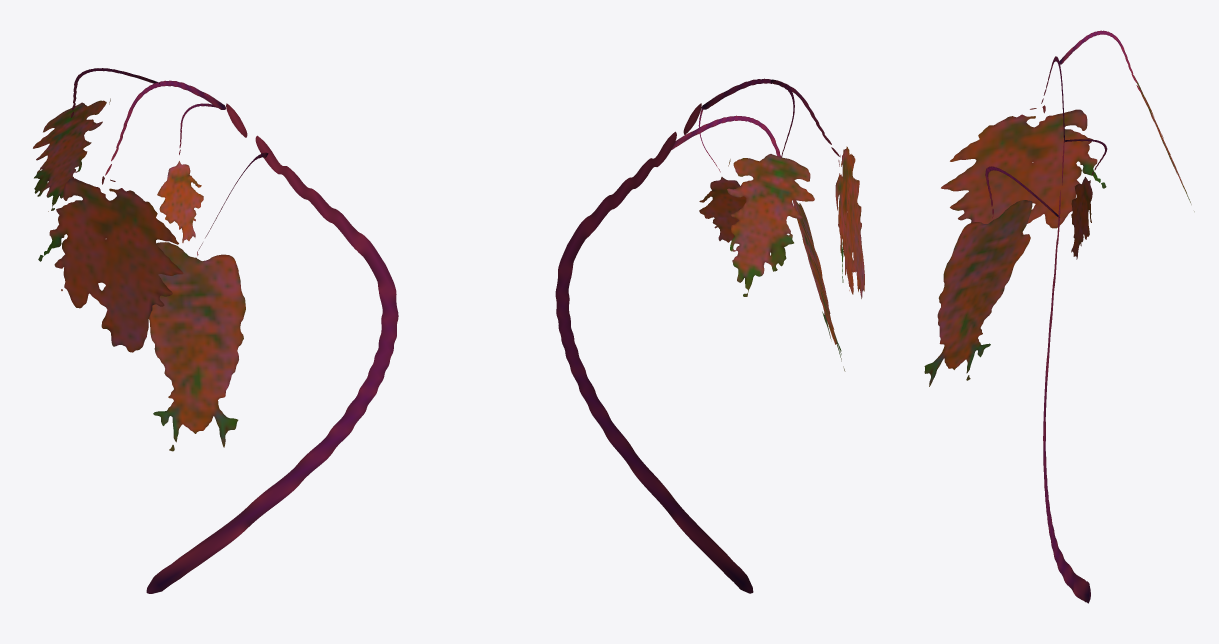
The model's file is Spin Reef Flower B2.fbx.
3 views of the same model, side by side, from view 1: azimuth 30°, elevation 25°; view 2: azimuth 150°, elevation 25°; view 3: azimuth 270°, elevation 25° (orthographic). The views are drawn at different scales.
Visible parts, largest first — view 1: Spin Reef Flower B2; view 2: Spin Reef Flower B2; view 3: Spin Reef Flower B2.
Part boxes in pixels (box(x1,y1,x2,y2)): Spin Reef Flower B2: box(33, 68, 398, 593); Spin Reef Flower B2: box(555, 78, 864, 593); Spin Reef Flower B2: box(924, 30, 1194, 603).
Bounding box in the file's own units: 95.49 × 138 × 61.73.
